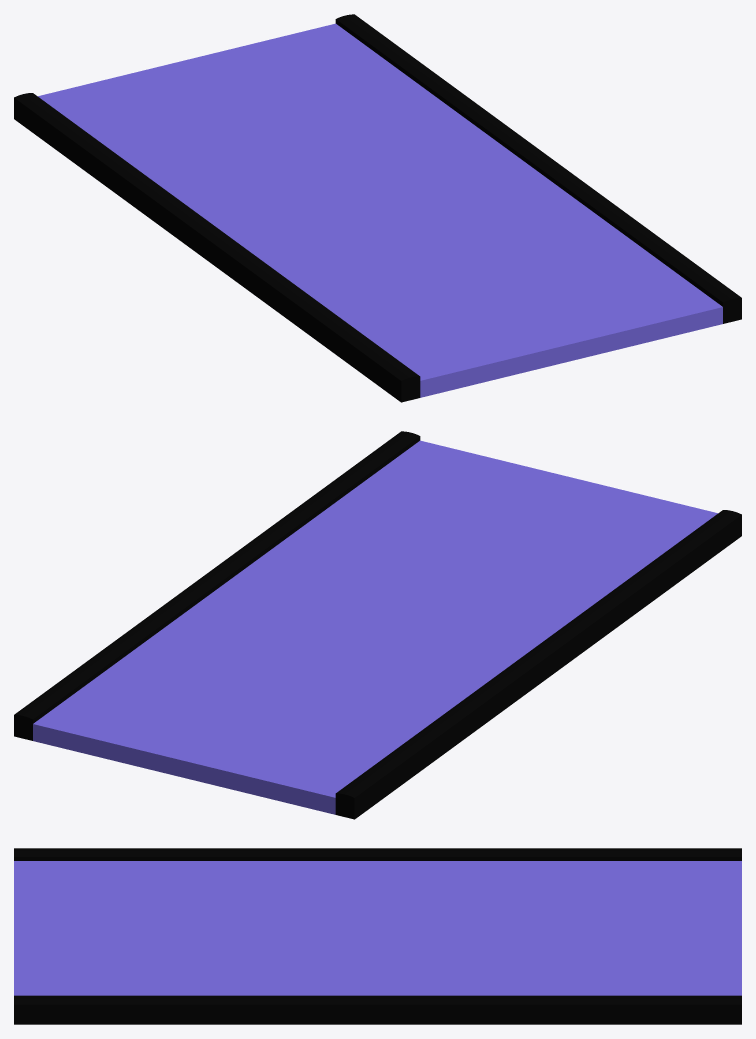
File: road.fbx
3 views of the same model, one above another, from view 1: azimuth 30°, elevation 25°; view 2: azimuth 150°, elevation 25°; view 3: azimuth 270°, elevation 25° (orthographic). The views are drawn at different scales.
Visible parts, largest first — view 1: road; view 2: road; view 3: road.
Part boxes in pixels (<box>): road: <box>14,14,741,402</box>; road: <box>14,431,741,819</box>; road: <box>14,848,741,1024</box>.
Size of the model in its own units: 565 by 36.03 by 1113.
